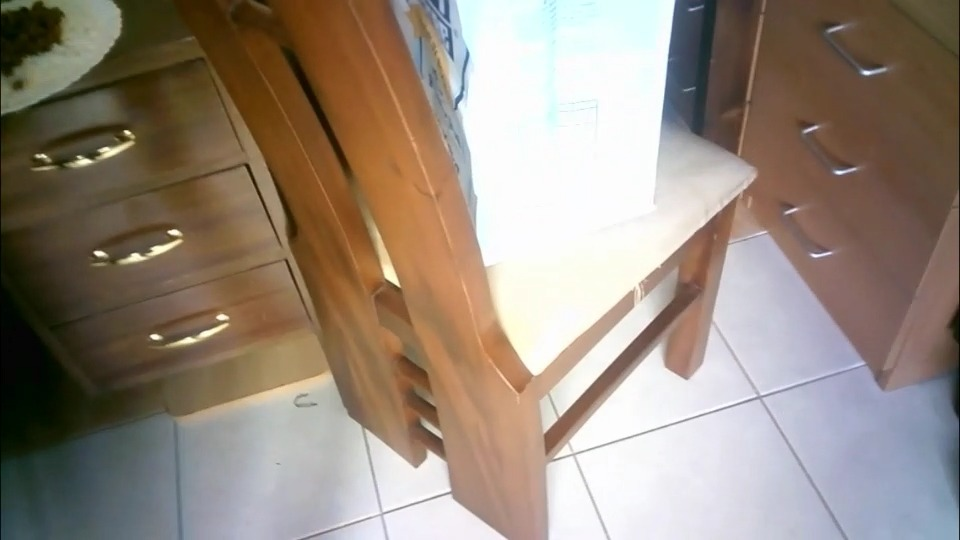wheat_flour_blue_label: (420, 0, 673, 247)
